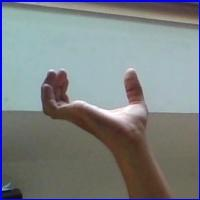B: (33, 62, 161, 150)
